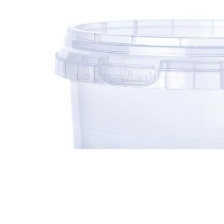plastic_box: (47, 8, 224, 149)
